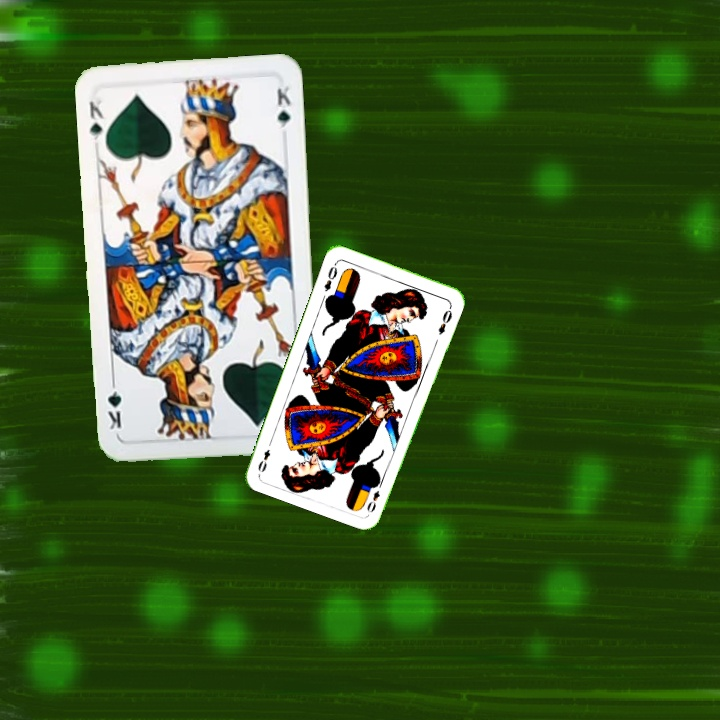EO: (320, 259, 340, 294), (363, 486, 382, 515)
GK: (85, 91, 107, 147)
